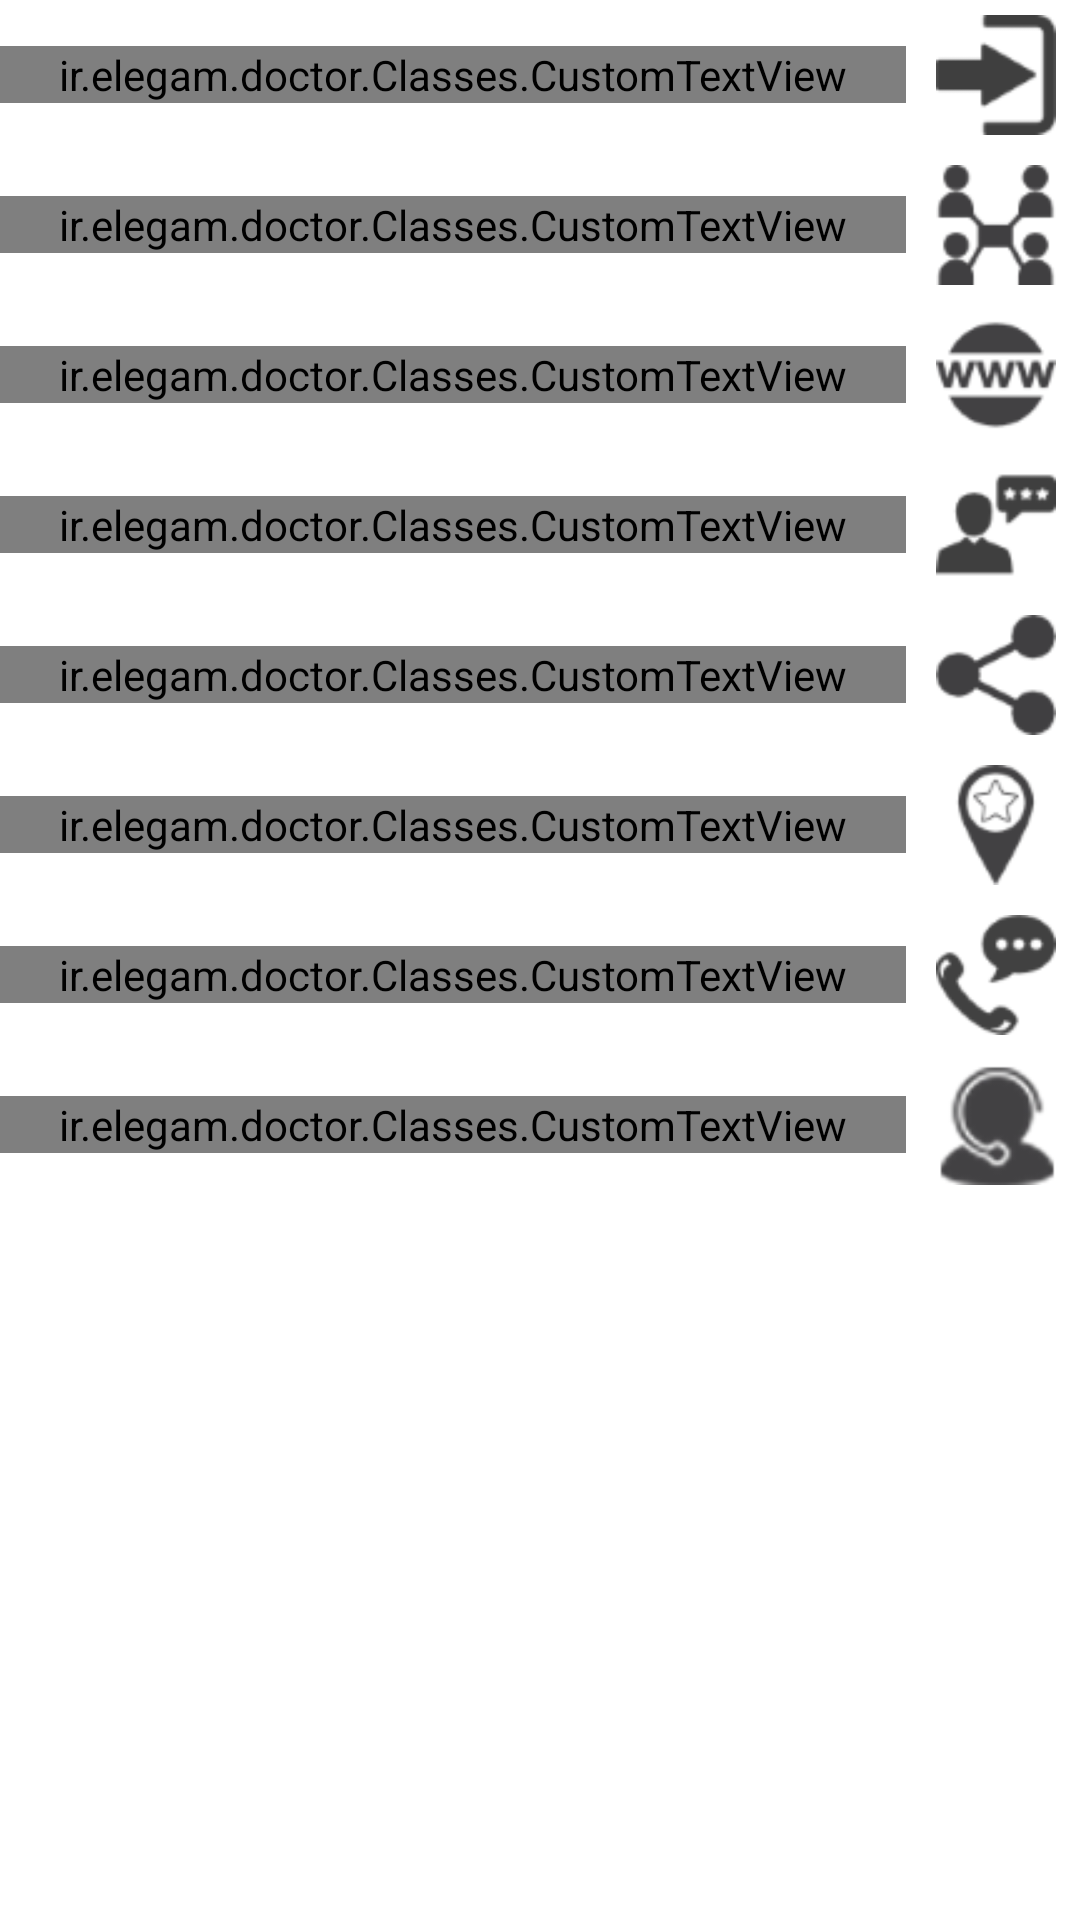

Named icons in this screenshot (1080×1920) and their centers, [x,y]:
arrow: [996,75]
poshtiban: [997,1126]
share: [996,675]
social: [995,225]
star: [996,825]
telephone: [996,975]
web: [996,375]
